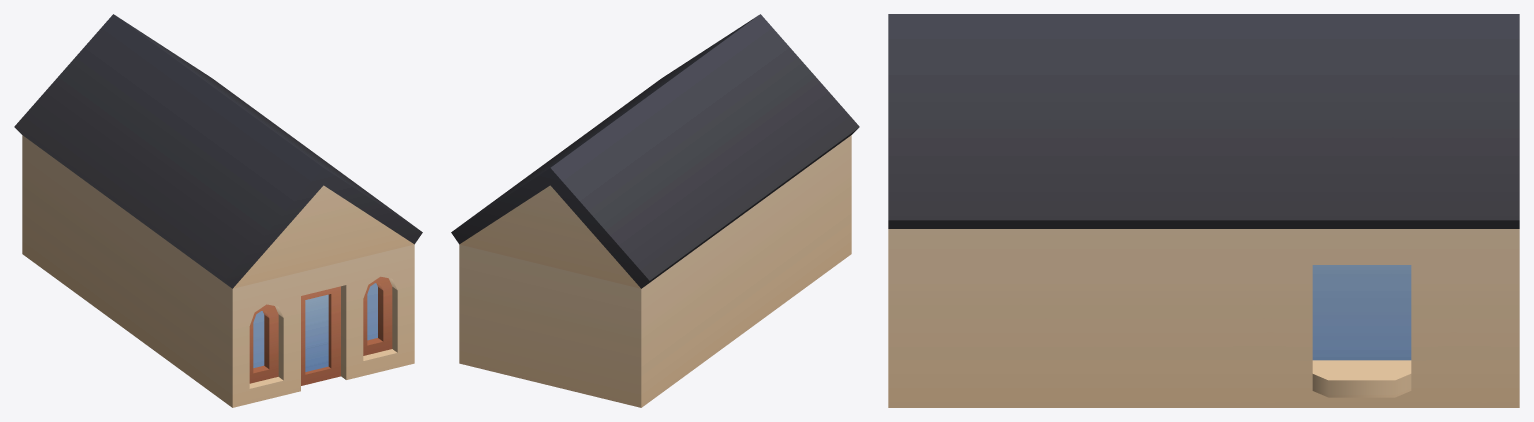
The model's file is building-sample-house-a.glb.
The picture shows the model from 3 angles, left to right: view 1: azimuth 30°, elevation 25°; view 2: azimuth 150°, elevation 25°; view 3: azimuth 270°, elevation 25°; orthographic projection. The views are drawn at different scales.
Parts seen in each view (by area): view 1: building-sample-house-a; view 2: building-sample-house-a; view 3: building-sample-house-a.
Boxes of the visible parts, x1,y1,x2,y2 form: building-sample-house-a: (14,14,422,407); building-sample-house-a: (451,14,859,407); building-sample-house-a: (888,14,1519,407).
Bounding box in the file's own units: 1.1 × 1.14 × 2.
1 material, 1 textured.
